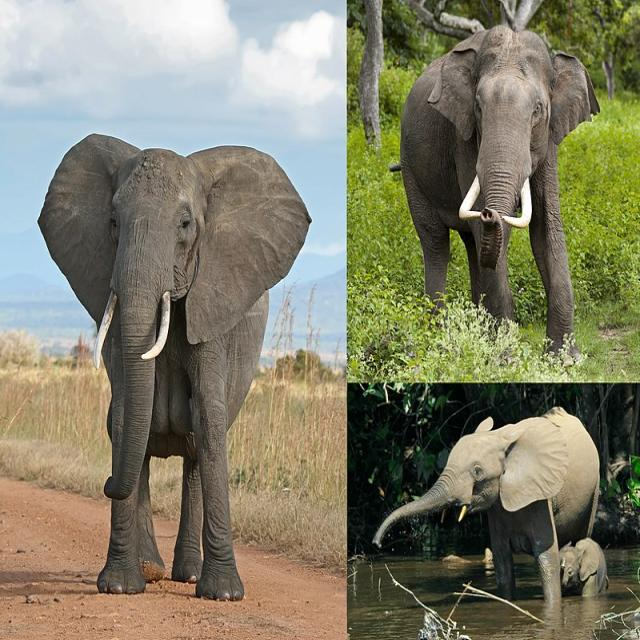Elephant: (34, 123, 312, 622), (387, 22, 599, 350), (367, 403, 620, 628), (547, 533, 617, 625)
